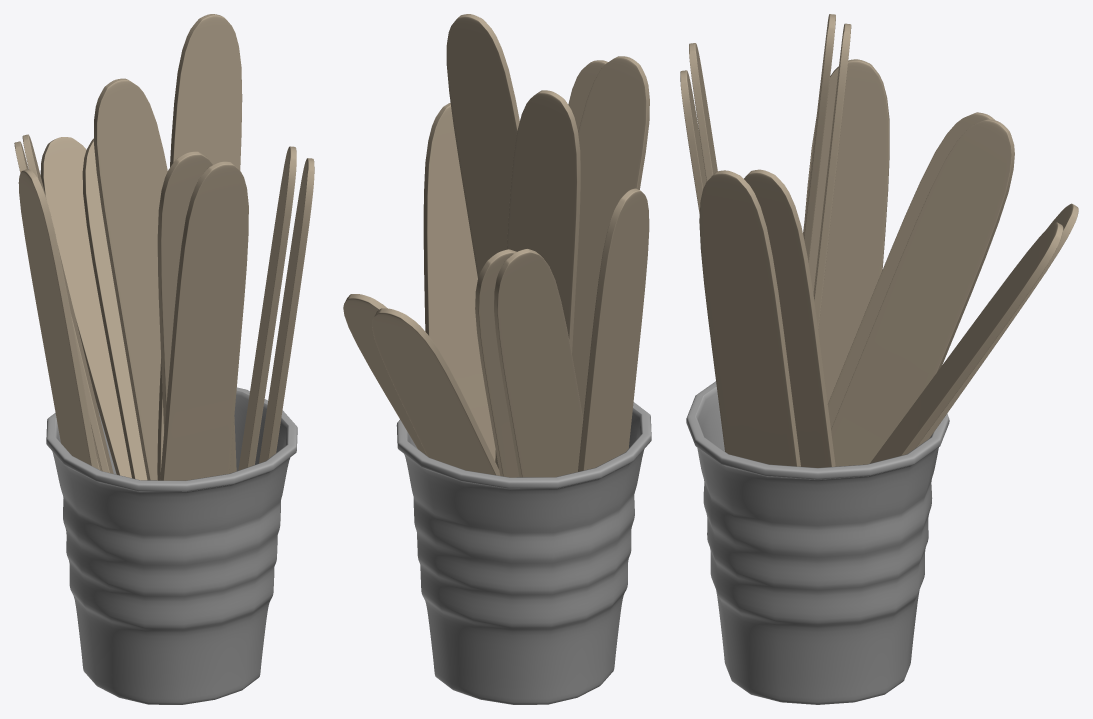
The model's file is CupOfPopsicles.fbx.
The picture shows the model from 3 angles, left to right: view 1: azimuth 30°, elevation 25°; view 2: azimuth 150°, elevation 25°; view 3: azimuth 270°, elevation 25°; orthographic projection. The views are drawn at different scales.
Parts seen in each view (by area): view 1: pCube342; view 2: pCube342; view 3: pCube342.
Boxes of the visible parts, x1,y1,x2,y2 form: pCube342: [14, 14, 314, 704]; pCube342: [343, 14, 651, 704]; pCube342: [680, 14, 1078, 704].
Bounding box in the file's own units: 20.7 × 53.5 × 28.67.
